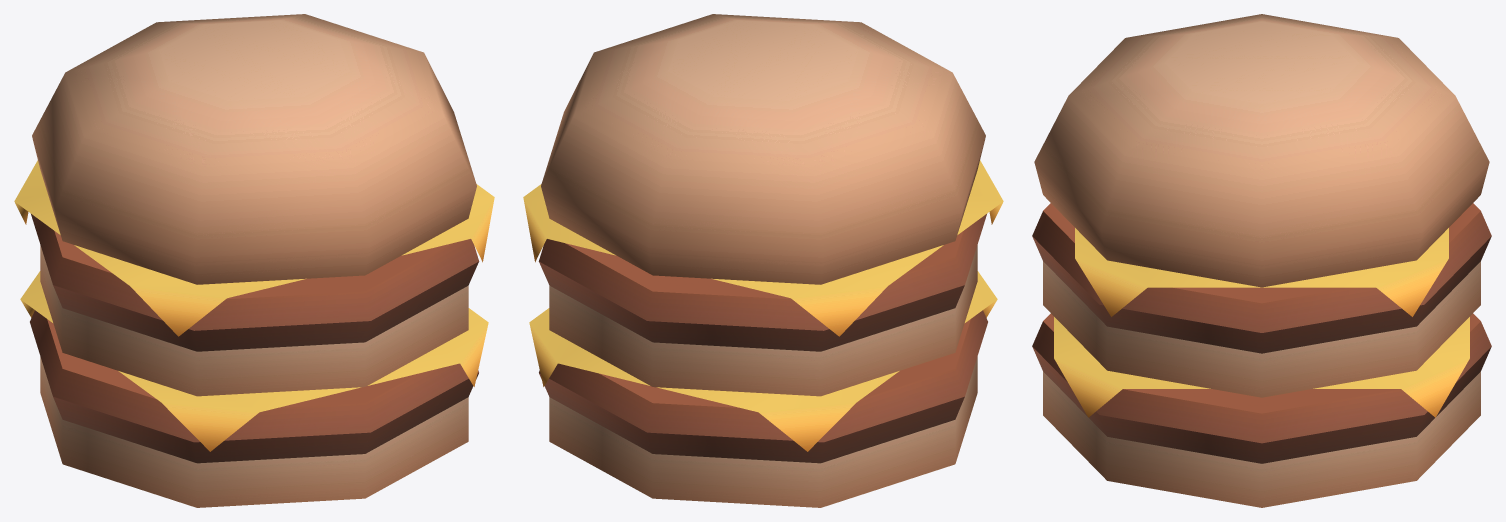
The model's file is burger-cheese-double.glb.
3 renders of one model, left to right at view 1: azimuth 30°, elevation 25°; view 2: azimuth 150°, elevation 25°; view 3: azimuth 270°, elevation 25°, orthographic.
Visible parts, largest first — view 1: bun-top, patty (×2), bun-middle, bun-bottom, cheese (×2); view 2: bun-top, patty (×2), bun-middle, bun-bottom, cheese (×2); view 3: bun-top, patty (×2), bun-middle, bun-bottom, cheese (×2).
Part boxes in pixels (x1,y1,x2,y2): bun-top: (32,14,476,284); patty (×2): (30,214,479,463); bun-middle: (40,245,468,396); bun-bottom: (40,357,468,507); cheese (×2): (14,160,494,451); bun-top: (541,14,985,284); patty (×2): (538,214,987,463); bun-middle: (549,245,977,396); bun-bottom: (549,357,977,507); cheese (×2): (523,160,1003,451); bun-top: (1034,14,1489,287); patty (×2): (1032,203,1491,463); bun-middle: (1043,261,1480,397); bun-bottom: (1043,371,1480,507); cheese (×2): (1054,228,1469,417).
Bounding box in the file's own units: 0.378 × 0.32 × 0.378.
Materials: 1 (1 with a texture image).
